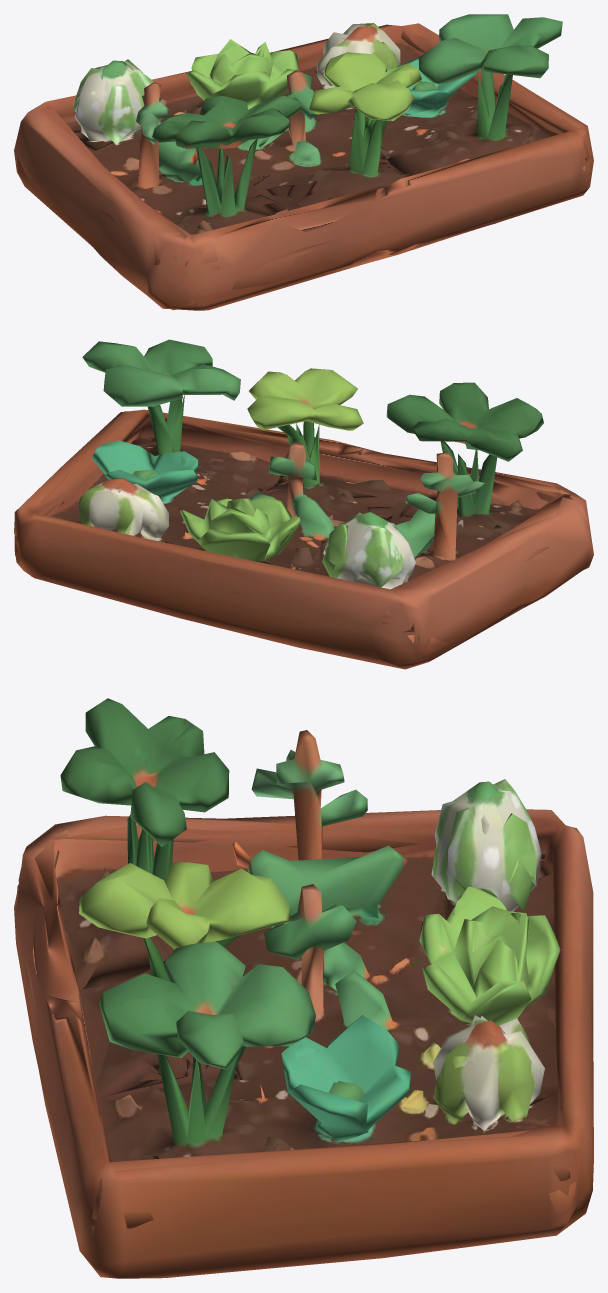
The model's file is garden-plot.glb.
The picture shows the model from 3 angles, top to bottom: view 1: azimuth 30°, elevation 25°; view 2: azimuth 150°, elevation 25°; view 3: azimuth 270°, elevation 25°; orthographic projection. The views are drawn at different scales.
Size of the model in its own units: 2.9 by 1.02 by 1.95.
1 material, 1 textured.
